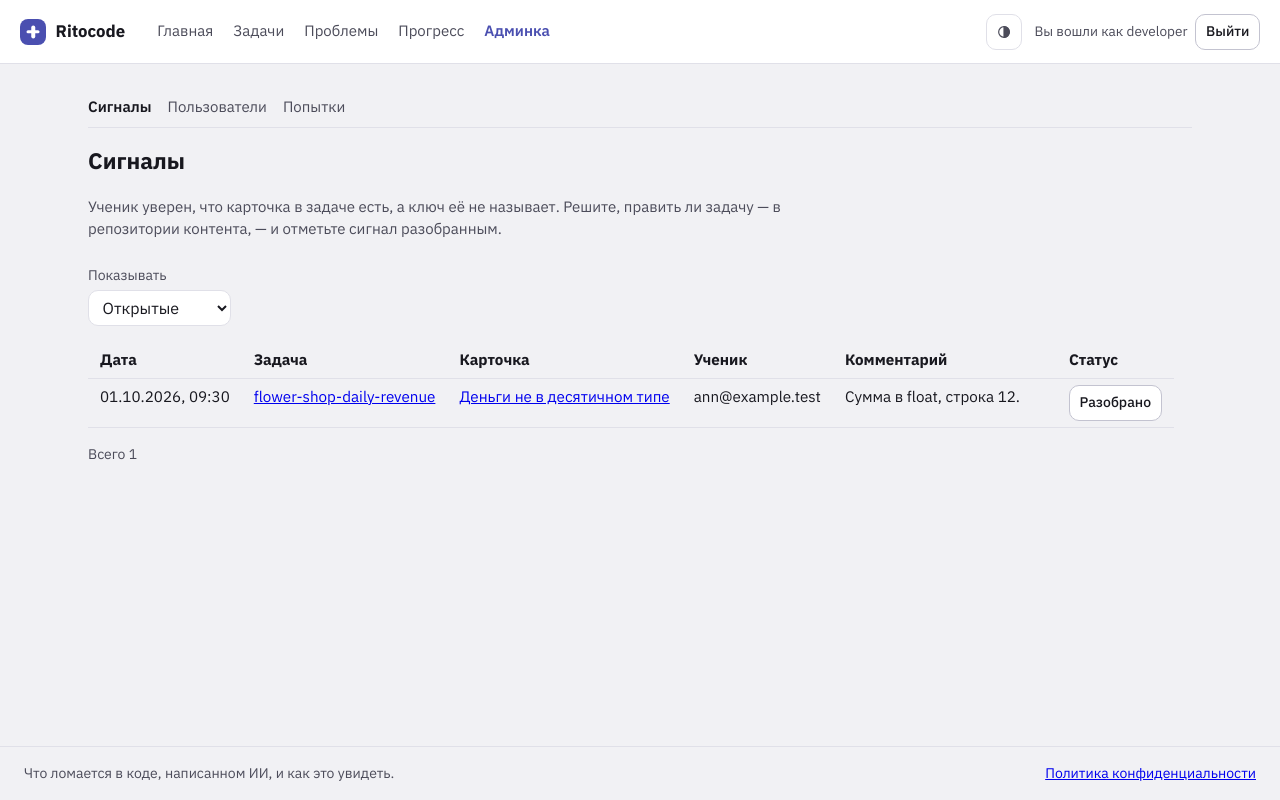
the signals page › lists the open signals with task, card, learner and comment, and resolves one
The image size is (1280, 800).
expect the text "ann@example.test" is shown: met, box [682,378,833,428]
expect the text "Сумма в float, строка 12." is shown: met, box [833,378,1057,428]
Click the button "Разобрано".
click(1115, 403)  # box [1069,385,1162,421]
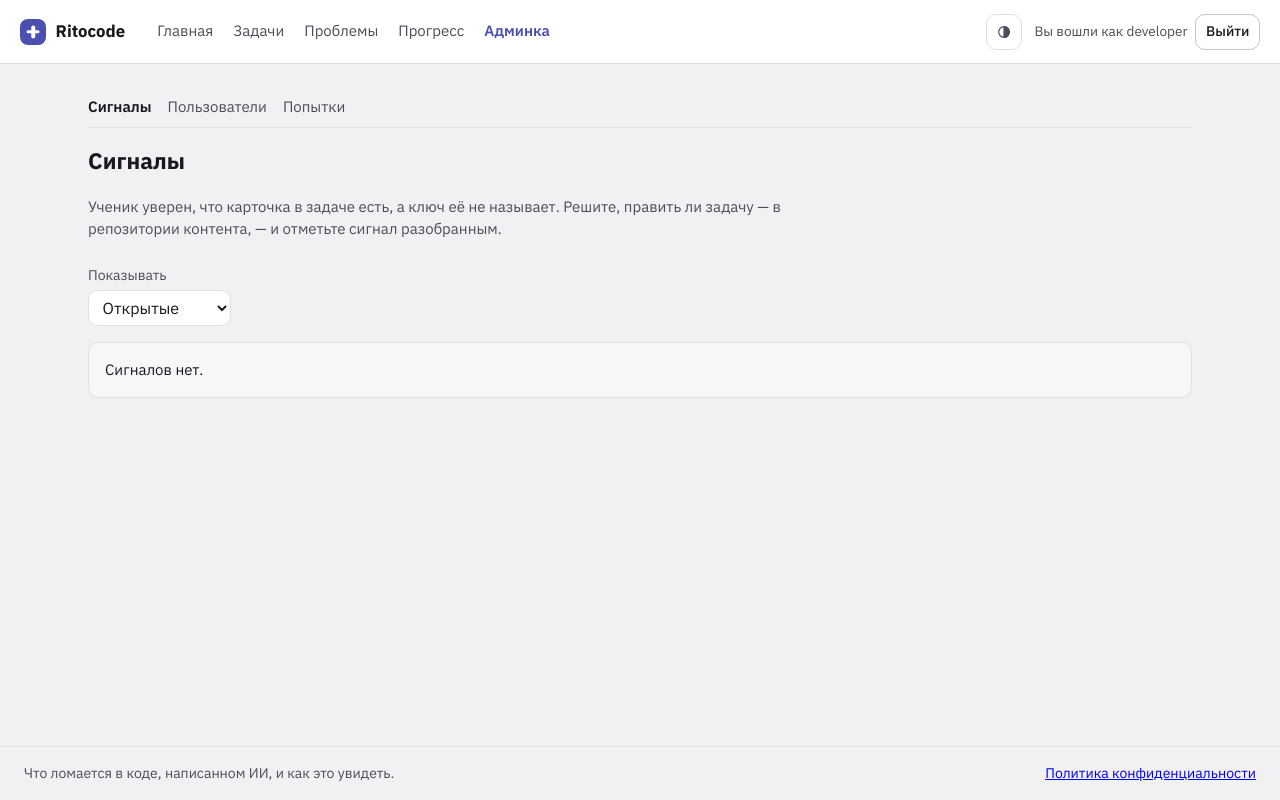
expect the text "Сигналов нет." is shown: met, box [88,342,1192,398]
